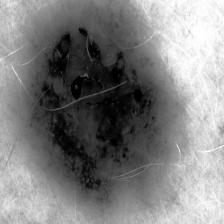Benign Marking or Mole: (29, 23, 168, 192)
